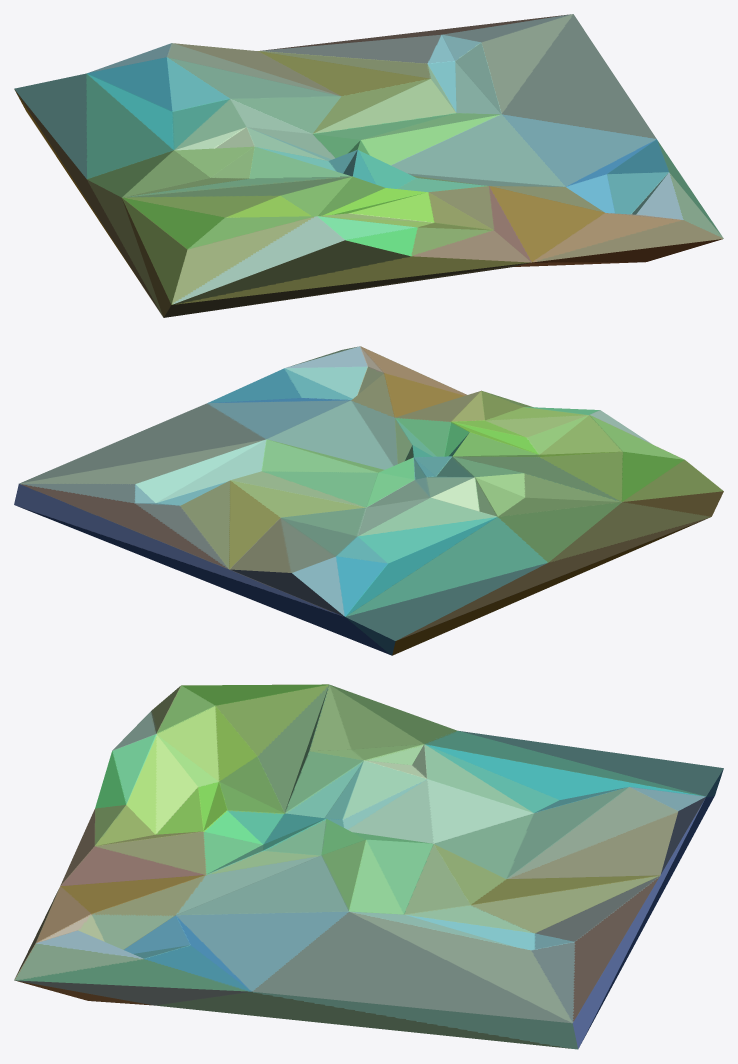
Rendered from fjord.fbx.
3 views of the same model, one above another, from view 1: azimuth 30°, elevation 25°; view 2: azimuth 150°, elevation 25°; view 3: azimuth 270°, elevation 25° (orthographic). The views are drawn at different scales.
Visible parts, largest first — view 1: Mesh_0; view 2: Mesh_0; view 3: Mesh_0.
Part boxes in pixels (bbox=[...]): Mesh_0: bbox=[14, 14, 723, 317]; Mesh_0: bbox=[14, 346, 723, 655]; Mesh_0: bbox=[14, 684, 723, 1049].
Bounding box in the file's own units: 118 × 17.2 × 111.
1 material, 1 textured.
